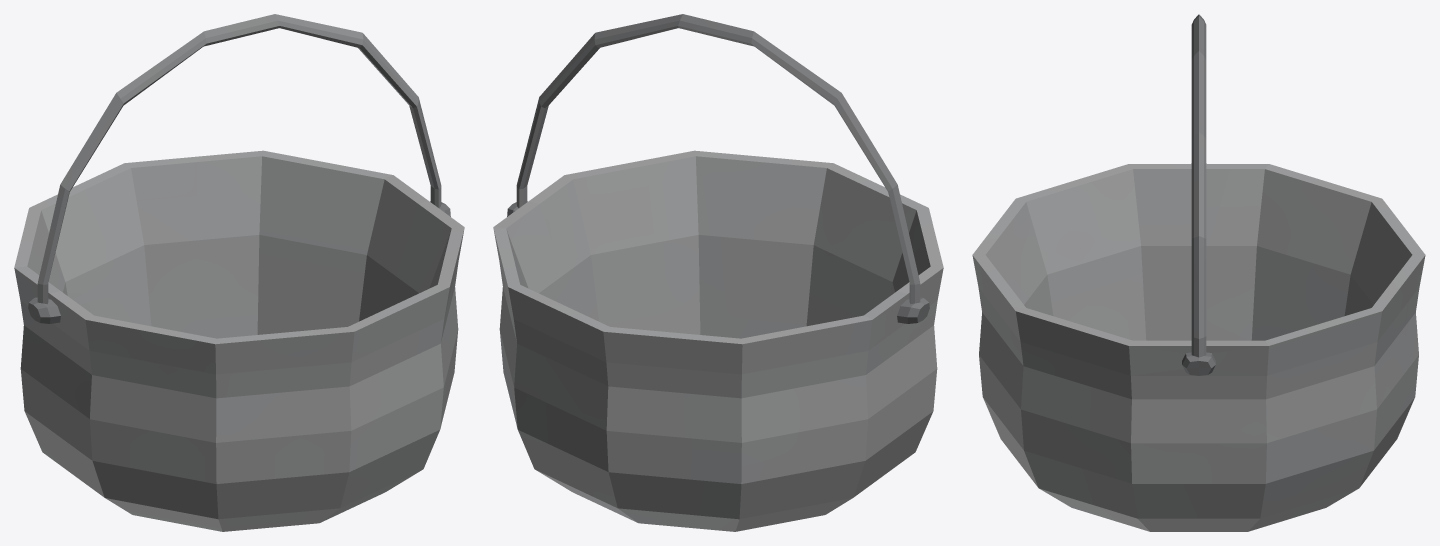
Rendered from cooking_pot.glb.
The picture shows the model from 3 angles, left to right: view 1: azimuth 30°, elevation 25°; view 2: azimuth 150°, elevation 25°; view 3: azimuth 270°, elevation 25°; orthographic projection.
Parts seen in each view (by area): view 1: cooking_pot, cooking_handle; view 2: cooking_pot, cooking_handle; view 3: cooking_pot, cooking_handle.
Part boxes in pixels (x1,y1,x2,y2): cooking_pot: (14,150,464,531); cooking_handle: (37,14,441,304); cooking_pot: (493,150,943,531); cooking_handle: (516,14,920,304); cooking_pot: (972,163,1425,531); cooking_handle: (1191,14,1206,357).
Size of the model in its own units: 0.379 by 0.3882 by 0.3665.
Materials: 1 (1 with a texture image).
